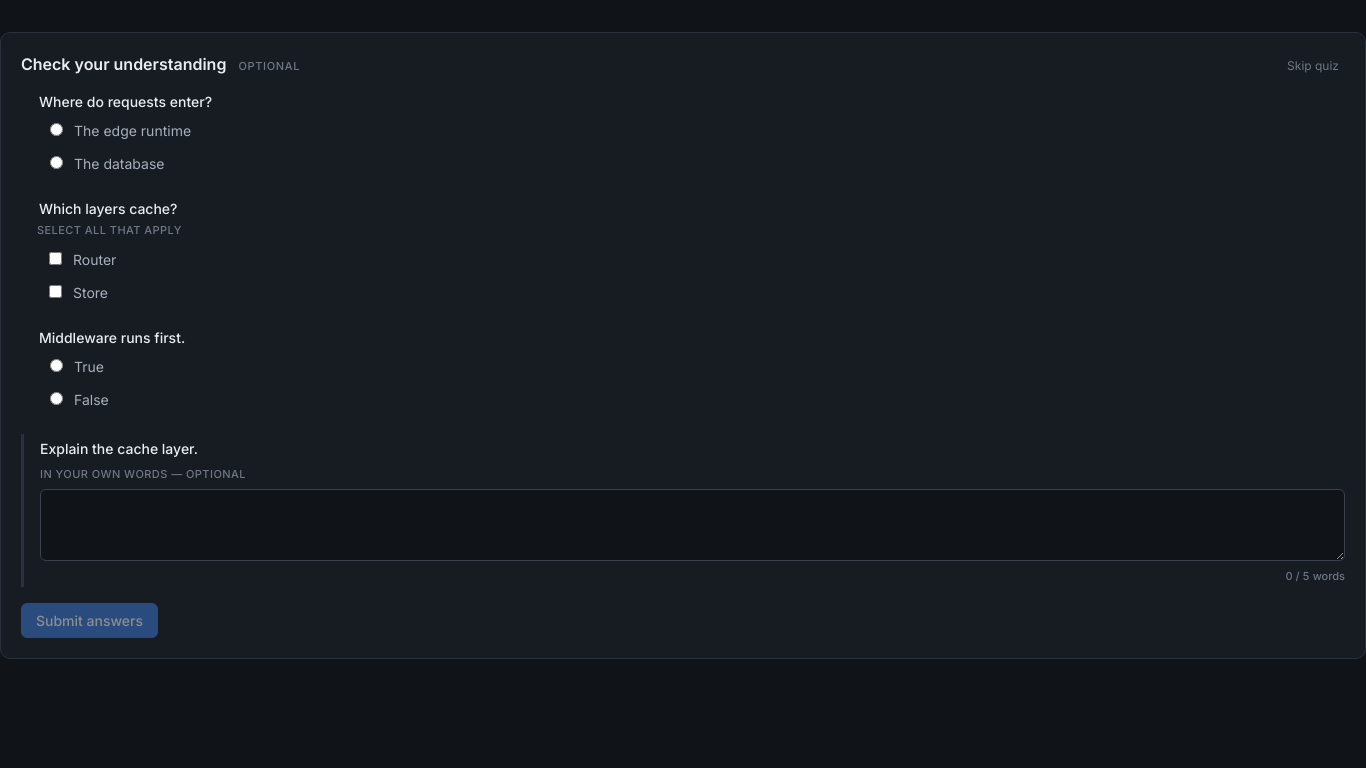
it: QuizCard form › counts words live and soft-warns over maxWords without blocking submit
The width and height of the screenshot is (1366, 768).
Type "one two three four five six seven" into the text box named "Explain the cache layer." at (692, 525), box [40,489,1345,561]
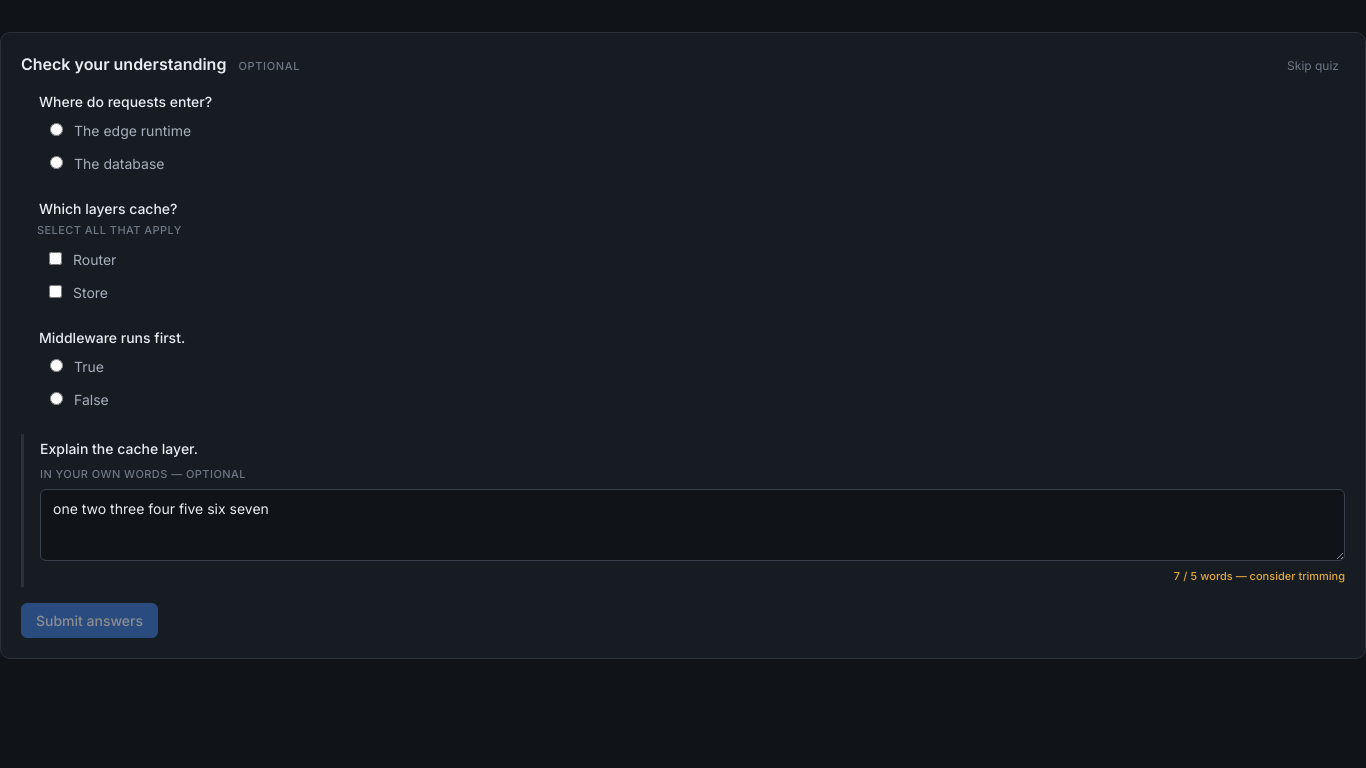
Expected: the text "7 / 5 words — consider trimming" is shown, [1173,569,1345,583]
